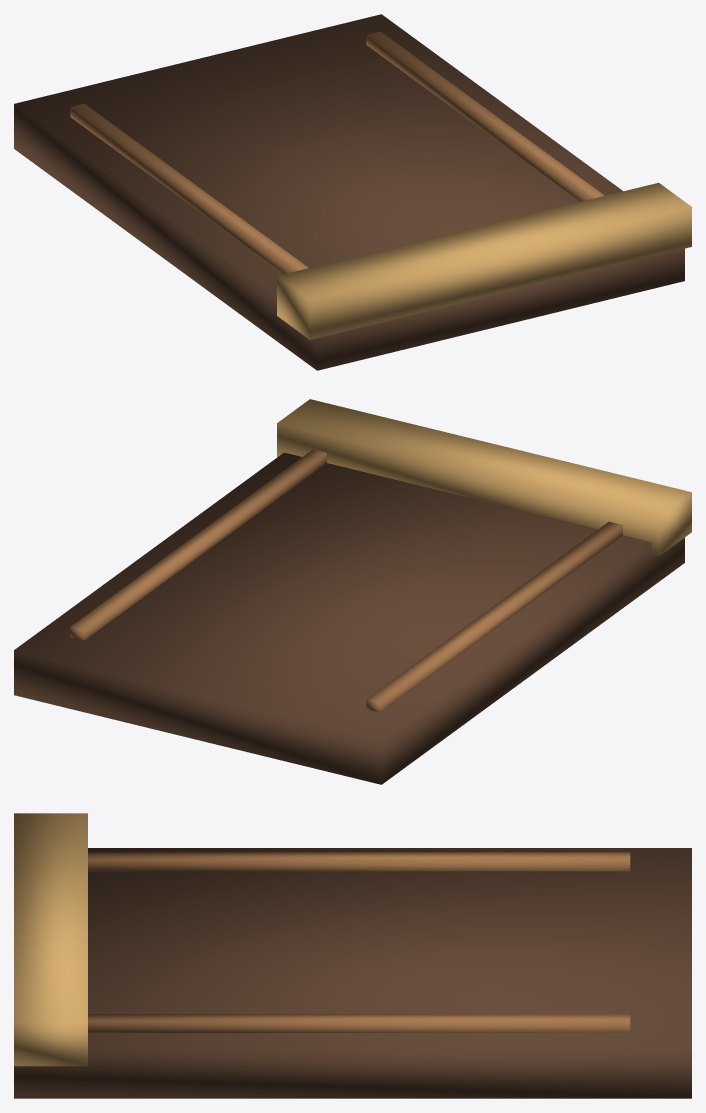
File: sleeve.glb
3 renders of one model, top to bottom at view 1: azimuth 30°, elevation 25°; view 2: azimuth 150°, elevation 25°; view 3: azimuth 270°, elevation 25°, orthographic. The views are drawn at different scales.
Parts seen in each view (by area): view 1: prop_sleeve; view 2: prop_sleeve; view 3: prop_sleeve.
Boxes of the visible parts, x1,y1,x2,y2 form: prop_sleeve: (14,14,691,370); prop_sleeve: (14,399,691,784); prop_sleeve: (14,813,691,1098).
Bounding box in the file's own units: 0.08 × 0.0145 × 0.11.
